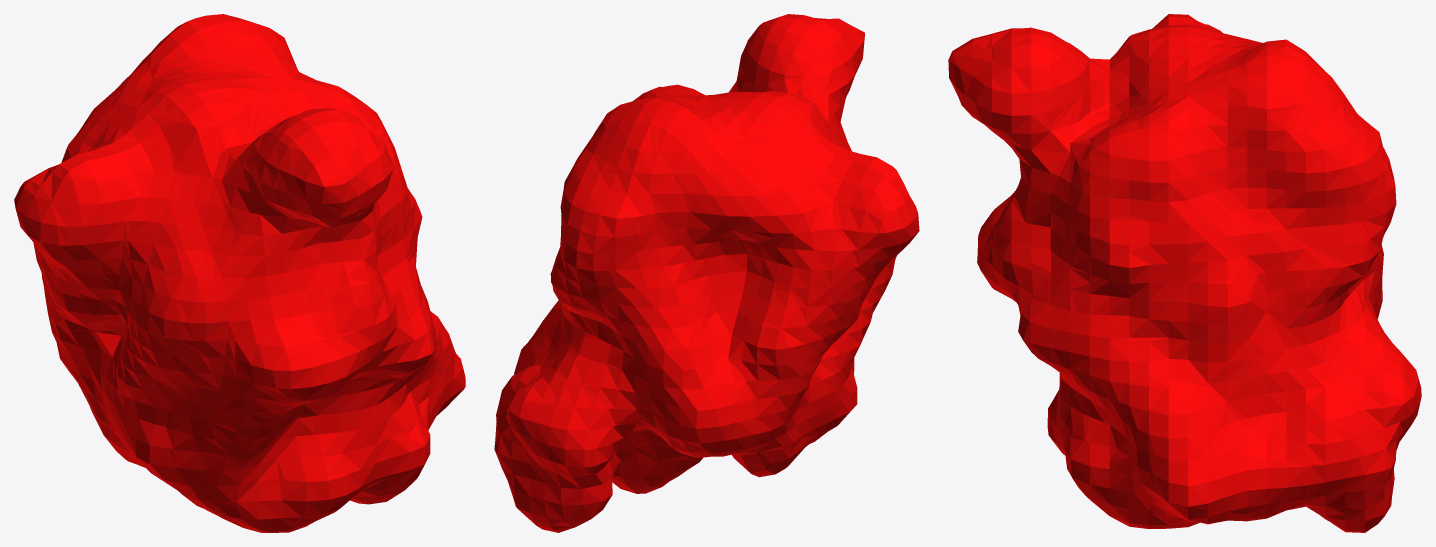
File: aroP_coarse.dae
3 renders of one model, left to right at view 1: azimuth 30°, elevation 25°; view 2: azimuth 150°, elevation 25°; view 3: azimuth 270°, elevation 25°, orthographic. The views are drawn at different scales.
Visible parts, largest first — view 1: aroP; view 2: aroP; view 3: aroP.
Boxes of the visible parts, bbox=[...] form: aroP: bbox=[14, 14, 465, 532]; aroP: bbox=[494, 14, 919, 532]; aroP: bbox=[948, 14, 1421, 532].
Bounding box in the file's own units: 63.79 × 64.5 × 61.63.
